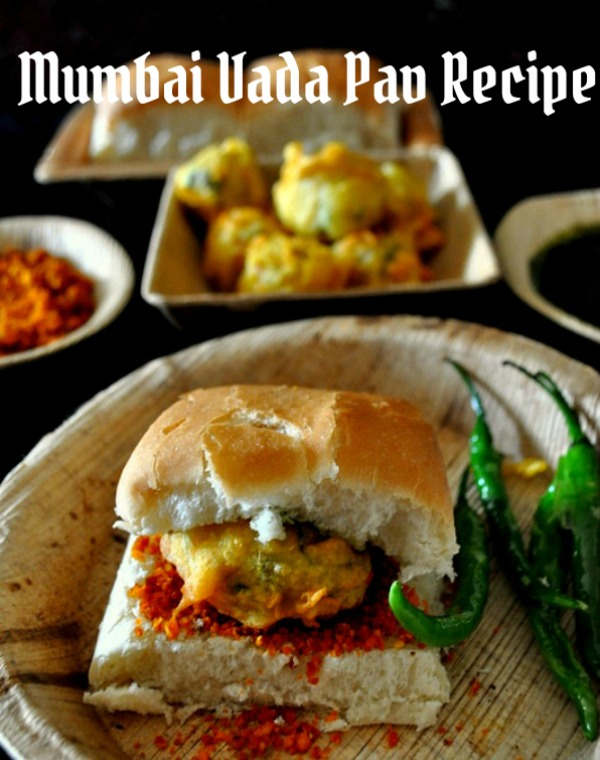vada pav: (89, 379, 457, 734)
